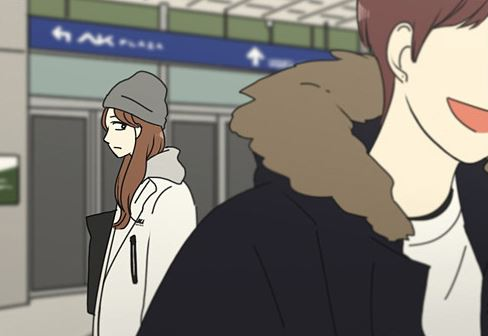hat: (101, 67, 171, 130)
